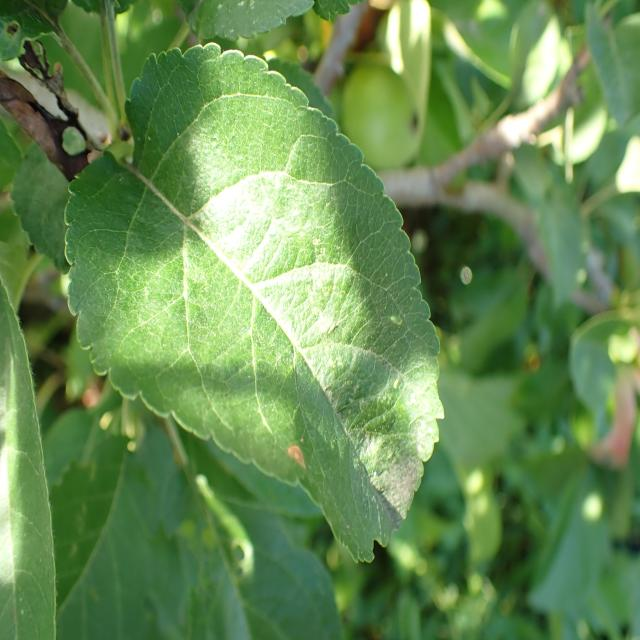Black Rot: (276, 410, 317, 486)
